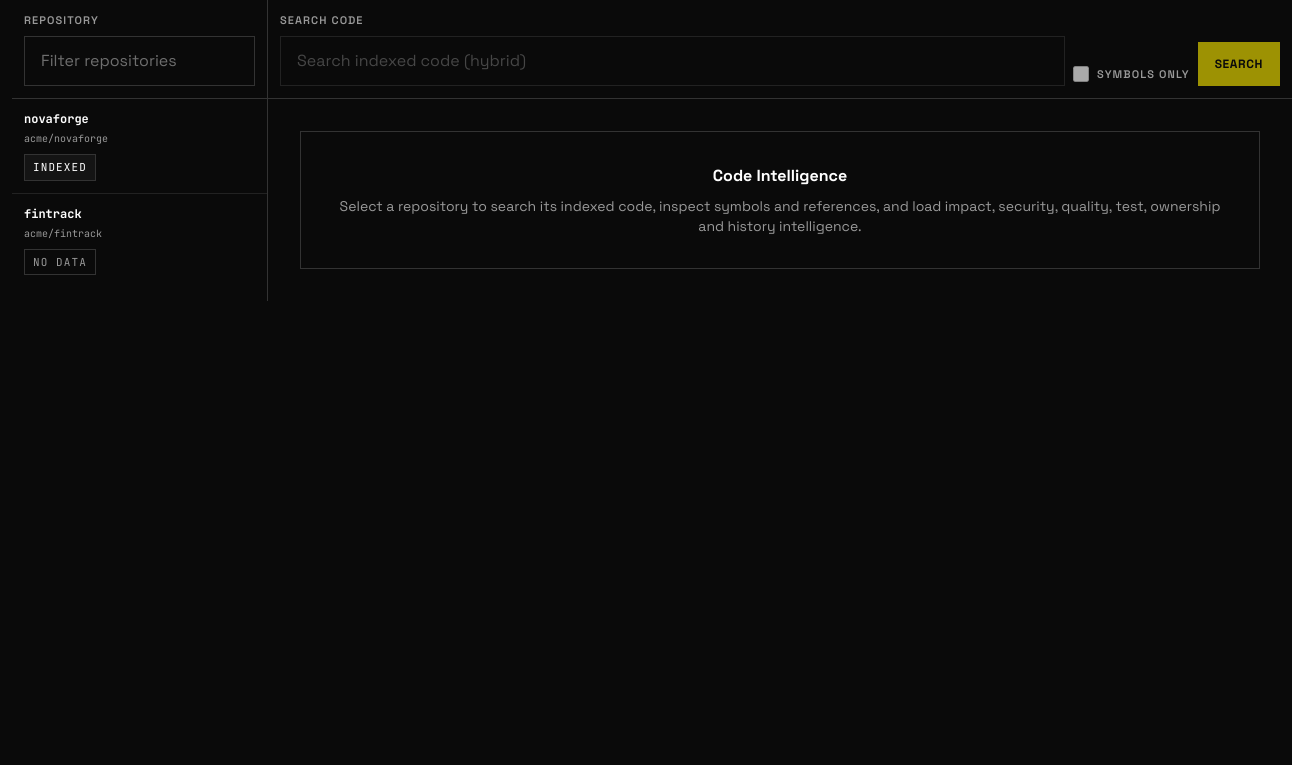
Test: Code Workspace › runs hybrid search and renders the backend snippet as a read-only preview
Expected: the text "novaforge" is shown, [24,111,89,127]
Click the button "novaforge acme/novaforge Indexed": (140, 146) [12,99,267,192]
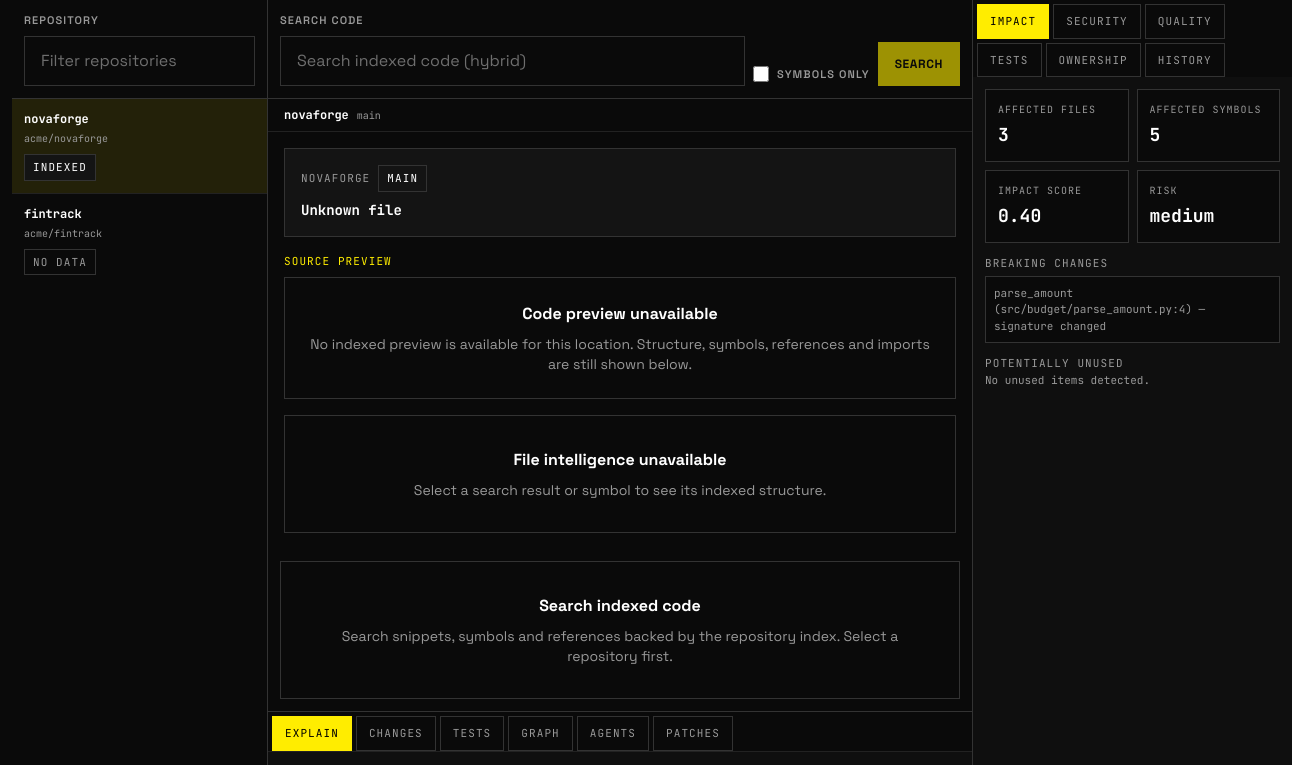
Expected: the field labelled "Code search" is enabled
In the field labelled "Code search": (513, 61) [280,36,745,86], type "hello"
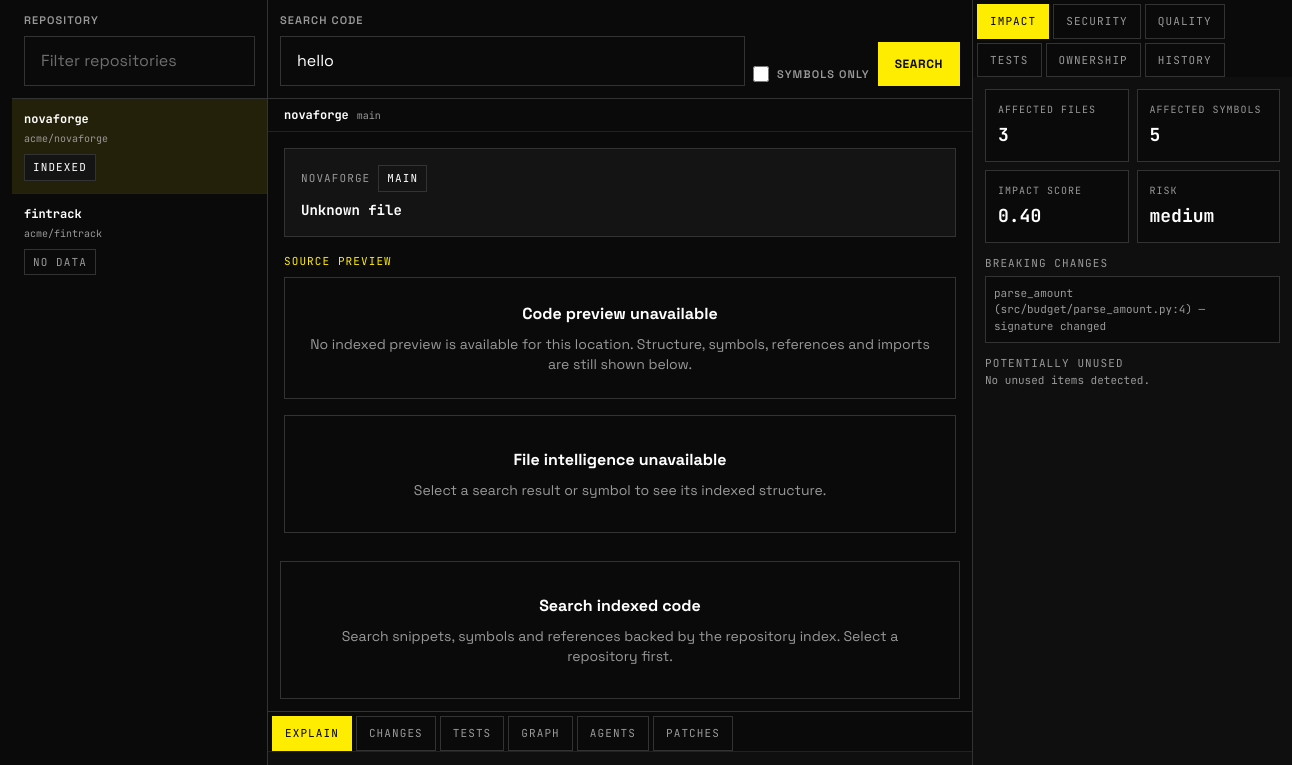
Click the button "Search": (919, 64) [878,42,960,86]
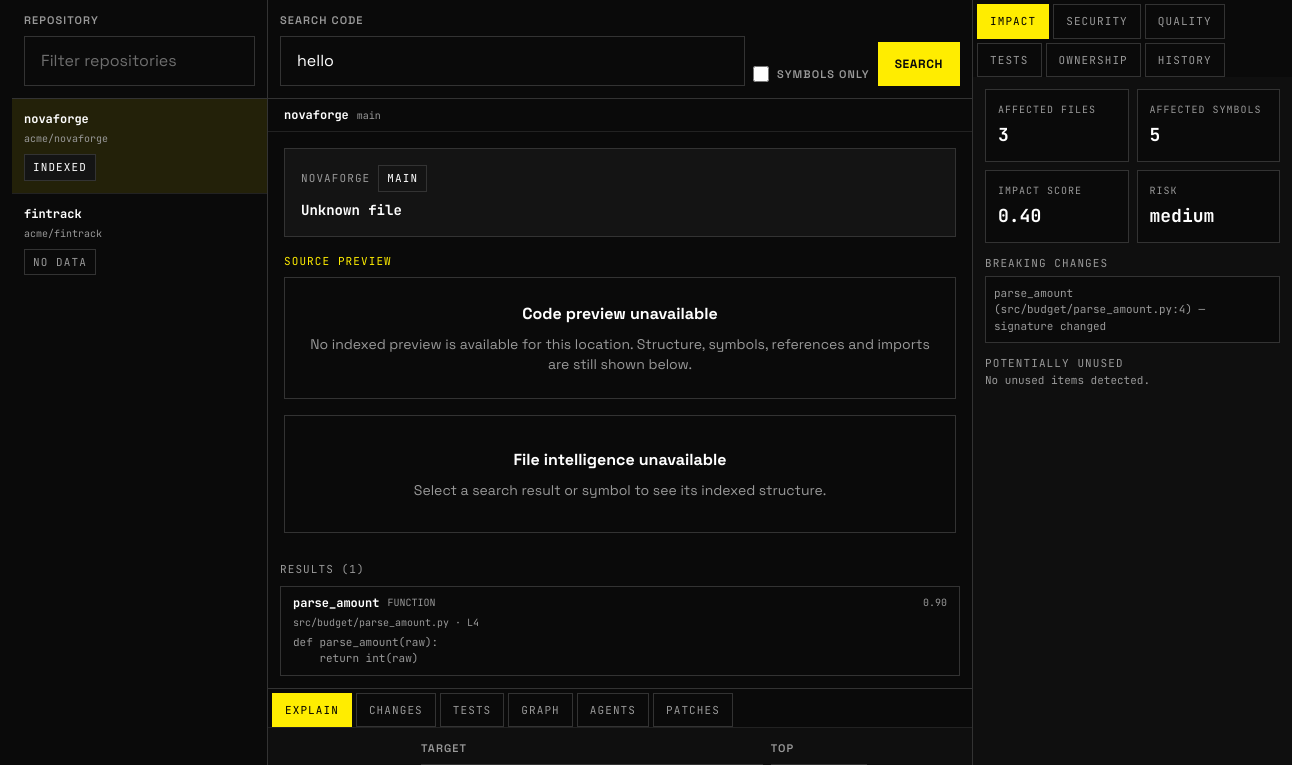
Expected: the list item "parse_amount" is shown, [994,286,1205,332]
Click the button "parse_amount": (336, 602) [280,586,960,676]
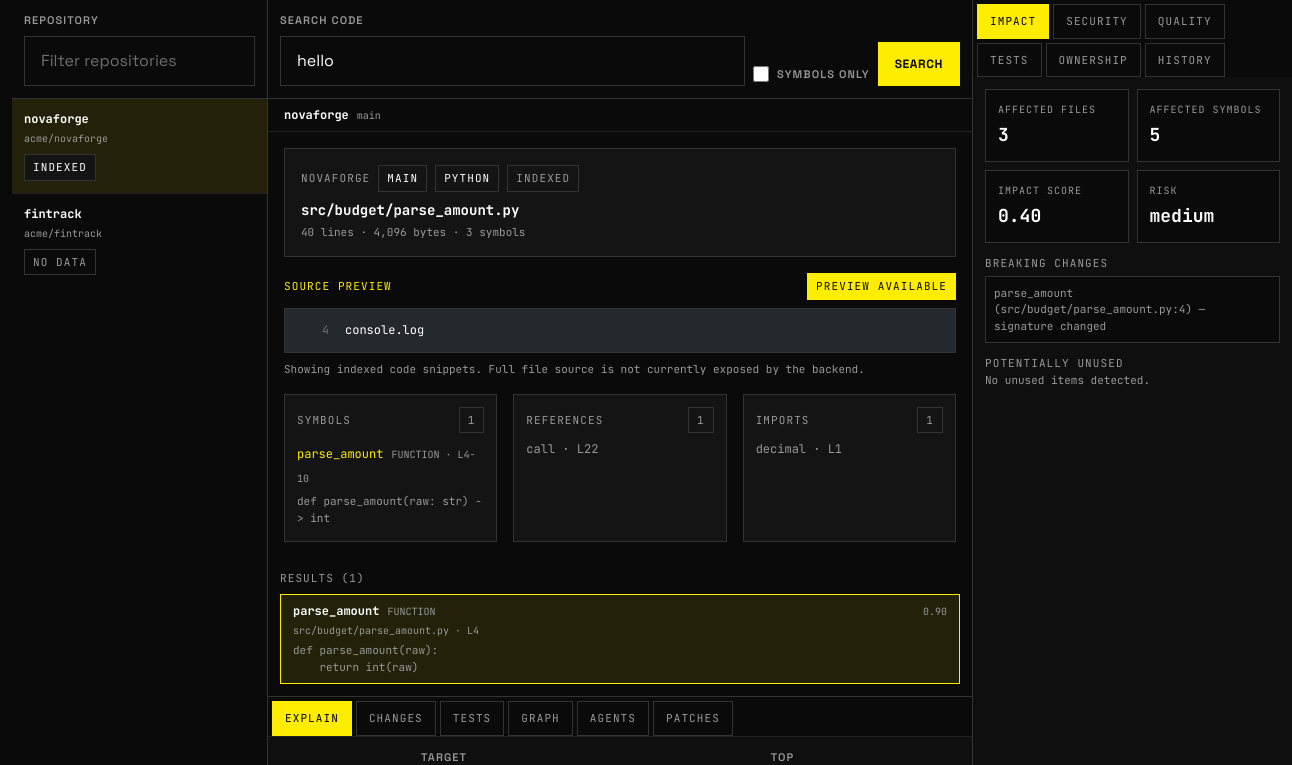
Expected: the text "Showing indexed code snippets" is shown, [284,362,865,376]
Expected: the element named "code preview" is shown, [284,308,956,353]
